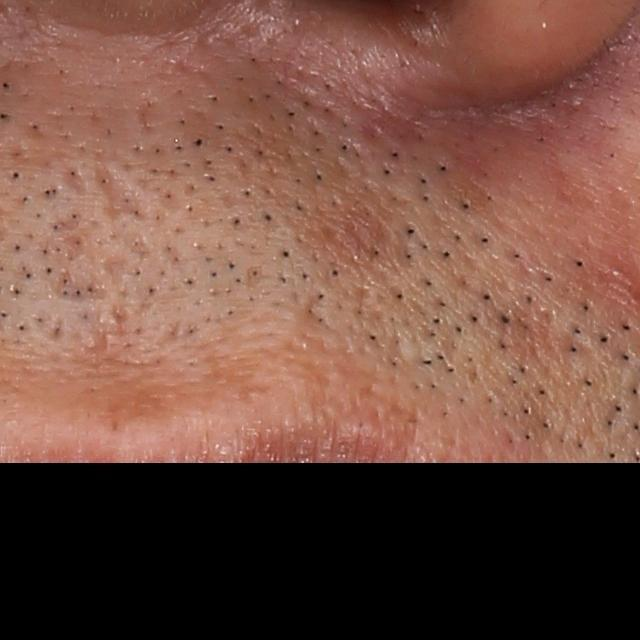atrophic_scar: (87, 143, 151, 227), (51, 266, 119, 307), (100, 254, 141, 292)
